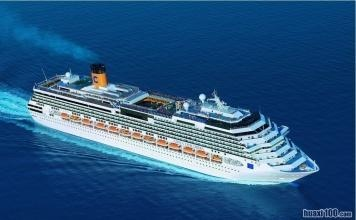youlun: (31, 60, 317, 186)
